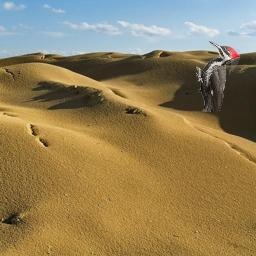Woodpecker: (196, 40, 240, 112)
